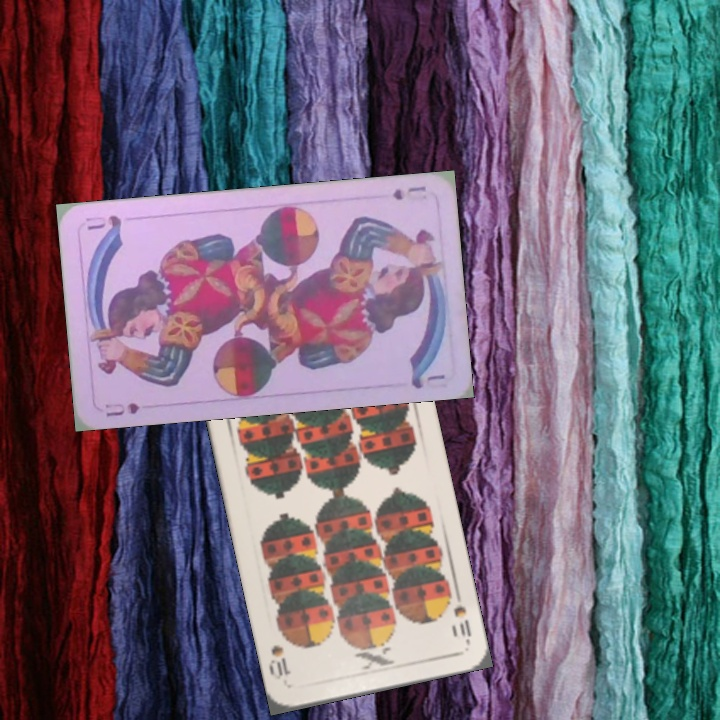S10: (443, 587, 474, 646)
SU: (98, 398, 142, 419), (388, 181, 429, 203)
